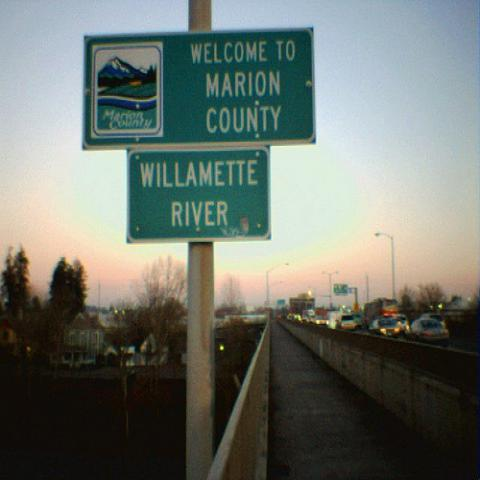car: (410, 318, 449, 348), (393, 314, 412, 337), (368, 320, 394, 336), (335, 313, 358, 331), (314, 316, 325, 325)
